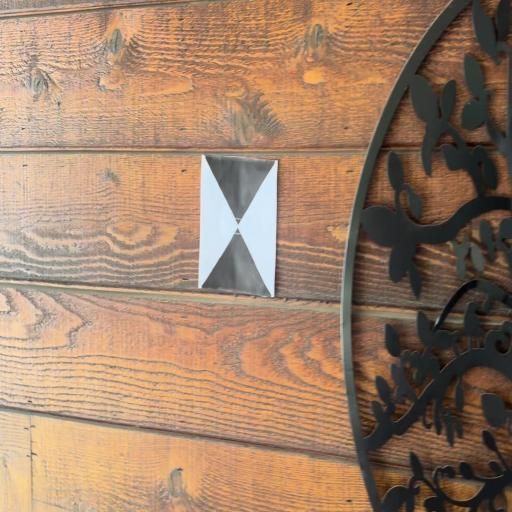target: (200, 155, 276, 296)
